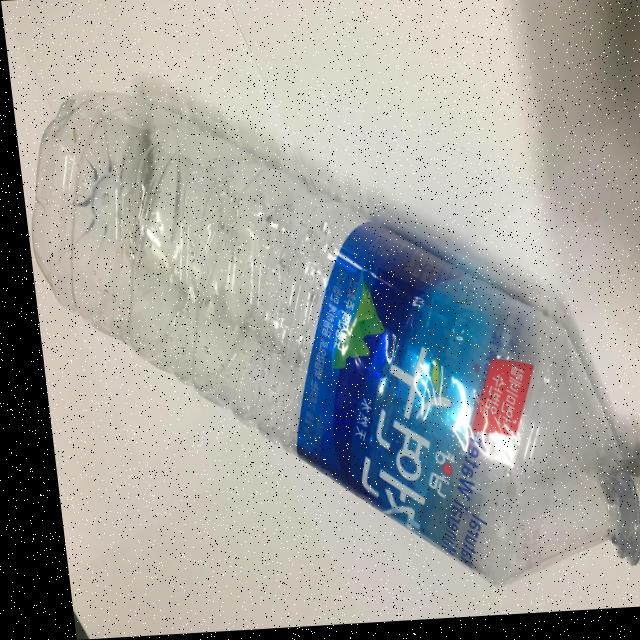plasticbottlecap: (589, 462, 640, 603)
